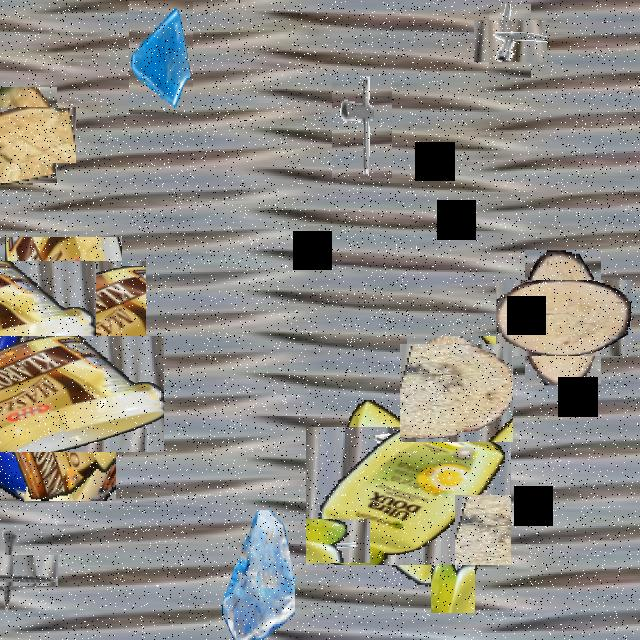glass: (222, 510, 294, 638), (129, 1, 193, 116)
metal: (332, 71, 392, 178), (330, 462, 394, 526), (431, 535, 475, 613), (481, 12, 539, 70), (0, 541, 45, 599)
plastic: (322, 410, 494, 582), (0, 312, 140, 476), (0, 248, 134, 395)
wood: (510, 265, 616, 371), (403, 340, 509, 446), (0, 96, 66, 173)
